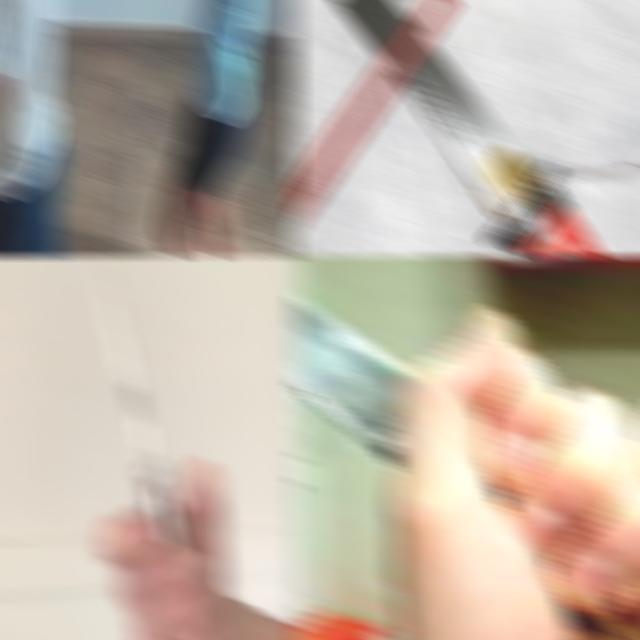Knife: (289, 295, 414, 466)
Knife_Handle: (289, 254, 640, 640), (62, 254, 238, 640)
